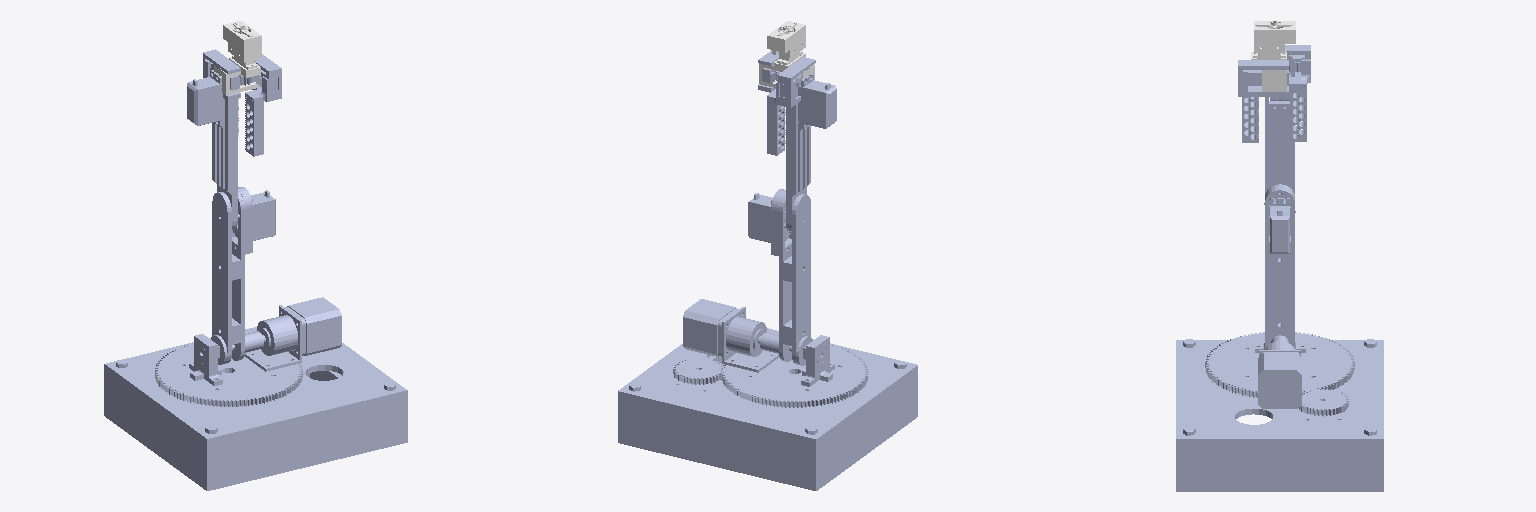
robot.urdf — me380_cad_v7:
<?xml version="1.0" encoding="utf-8"?>
<!-- This URDF was automatically created by SolidWorks to URDF Exporter! Originally created by [author] ([email redacted]) 
     Commit Version: 1.6.0-4-g7f85cfe  Build Version: 1.6.7995.38578
     For more information, please see http://wiki.ros.org/sw_urdf_exporter -->
<robot
  name="me380_cad_v7">
  <link
    name="base_link">
    <inertial>
      <origin
        xyz="0.066171199500242 -0.181511487618111 0.089463184915841"
        rpy="0 0 0" />
      <mass
        value="1.77014769465671" />
      <inertia
        ixx="0.00210043805116231"
        ixy="-1.06304625112232E-05"
        ixz="2.67176242386157E-11"
        iyy="0.00548702149822165"
        iyz="3.29919815496409E-09"
        izz="0.00696124579132741" />
    </inertial>
    <visual>
      <origin
        xyz="0 0 0"
        rpy="0 0 0" />
      <geometry>
        <mesh
          filename="package://me380_cad_v7/meshes/base_link.STL" />
      </geometry>
      <material
        name="">
        <color
          rgba="0.792156862745098 0.819607843137255 0.933333333333333 1" />
      </material>
    </visual>
    <collision>
      <origin
        xyz="0 0 0"
        rpy="0 0 0" />
      <geometry>
        <mesh
          filename="package://me380_cad_v7/meshes/base_link.STL" />
      </geometry>
    </collision>
  </link>
  <link
    name="link_1">
    <inertial>
      <origin
        xyz="-0.0120434624194553 -6.82163517617962E-08 0.03915043898334"
        rpy="0 0 0" />
      <mass
        value="0.236297558132839" />
      <inertia
        ixx="0.000327725103159314"
        ixy="-6.89388147916382E-20"
        ixz="6.58315442248317E-07"
        iyy="0.000198345267796804"
        iyz="5.25121936355093E-10"
        izz="0.00016290906768797" />
    </inertial>
    <visual>
      <origin
        xyz="0 0 0"
        rpy="0 0 0" />
      <geometry>
        <mesh
          filename="package://me380_cad_v7/meshes/link_1.STL" />
      </geometry>
      <material
        name="">
        <color
          rgba="0.792156862745098 0.819607843137255 0.933333333333333 1" />
      </material>
    </visual>
    <collision>
      <origin
        xyz="0 0 0"
        rpy="0 0 0" />
      <geometry>
        <mesh
          filename="package://me380_cad_v7/meshes/link_1.STL" />
      </geometry>
    </collision>
  </link>
  <joint
    name="joint_1"
    type="continuous">
    <origin
      xyz="0.032747 -0.18382 0.13053"
      rpy="0 1.5708 0" />
    <parent
      link="base_link" />
    <child
      link="link_1" />
    <axis
      xyz="1 0 0" />
    <limit
      lower="0"
      upper="6"
      effort="0"
      velocity="0" />
  </joint>
  <link
    name="link_2">
    <inertial>
      <origin
        xyz="0.0246809858851406 0.0938584438763335 0.00991038644973094"
        rpy="0 0 0" />
      <mass
        value="0.103250838013234" />
      <inertia
        ixx="0.000166280884898741"
        ixy="-1.55209877075966E-06"
        ixz="2.05722961385686E-12"
        iyy="1.15941369022668E-05"
        iyz="-1.18044490139455E-12"
        izz="0.000164486267779308" />
    </inertial>
    <visual>
      <origin
        xyz="0 0 0"
        rpy="0 0 0" />
      <geometry>
        <mesh
          filename="package://me380_cad_v7/meshes/link_2.STL" />
      </geometry>
      <material
        name="">
        <color
          rgba="0.792156862745098 0.819607843137255 0.933333333333333 1" />
      </material>
    </visual>
    <collision>
      <origin
        xyz="0 0 0"
        rpy="0 0 0" />
      <geometry>
        <mesh
          filename="package://me380_cad_v7/meshes/link_2.STL" />
      </geometry>
    </collision>
  </link>
  <joint
    name="joint_2"
    type="continuous">
    <origin
      xyz="-0.024975 0.0099104 -0.015"
      rpy="1.5708 -1.5708 0" />
    <parent
      link="link_1" />
    <child
      link="link_2" />
    <axis
      xyz="1 0 0" />
    <limit
      lower="-3"
      upper="3"
      effort="0"
      velocity="0" />
  </joint>
  <link
    name="link_3">
    <inertial>
      <origin
        xyz="0.0649019107014651 0.0757804025401111 0.00675619922964291"
        rpy="0 0 0" />
      <mass
        value="0.0754597178924088" />
      <inertia
        ixx="5.83225662345789E-05"
        ixy="-5.1253404346648E-05"
        ixz="6.01044971770301E-09"
        iyy="6.27166319251453E-05"
        iyz="7.8604894874664E-09"
        izz="0.000111828651960116" />
    </inertial>
    <visual>
      <origin
        xyz="0 0 0"
        rpy="0 0 0" />
      <geometry>
        <mesh
          filename="package://me380_cad_v7/meshes/link_3.STL" />
      </geometry>
      <material
        name="">
        <color
          rgba="0.792156862745098 0.819607843137255 0.933333333333333 1" />
      </material>
    </visual>
    <collision>
      <origin
        xyz="0 0 0"
        rpy="0 0 0" />
      <geometry>
        <mesh
          filename="package://me380_cad_v7/meshes/link_3.STL" />
      </geometry>
    </collision>
  </link>
  <joint
    name="joint_3"
    type="continuous">
    <origin
      xyz="0.015 0.14353 0.00315"
      rpy="0 0 0.82926" />
    <parent
      link="link_2" />
    <child
      link="link_3" />
    <axis
      xyz="0 0 1" />
  </joint>
  <link
    name="link_4">
    <inertial>
      <origin
        xyz="0.0115325048825419 -0.0317112640105645 -0.0068332124955188"
        rpy="0 0 0" />
      <mass
        value="0.0291151923315562" />
      <inertia
        ixx="1.18081150086138E-05"
        ixy="1.28959641188394E-06"
        ixz="2.78449128187749E-09"
        iyy="3.00560474264023E-06"
        iyz="2.98703157161569E-08"
        izz="1.04100622983534E-05" />
    </inertial>
    <visual>
      <origin
        xyz="0 0 0"
        rpy="0 0 0" />
      <geometry>
        <mesh
          filename="package://me380_cad_v7/meshes/link_4.STL" />
      </geometry>
      <material
        name="">
        <color
          rgba="0.792156862745098 0.819607843137255 0.933333333333333 1" />
      </material>
    </visual>
    <collision>
      <origin
        xyz="0 0 0"
        rpy="0 0 0" />
      <geometry>
        <mesh
          filename="package://me380_cad_v7/meshes/link_4.STL" />
      </geometry>
    </collision>
  </link>
  <joint
    name="joint_4"
    type="continuous">
    <origin
      xyz="0.10337 0.094677 0"
      rpy="3.1416 0 -0.56113" />
    <parent
      link="link_3" />
    <child
      link="link_4" />
    <axis
      xyz="0 0 1" />
  </joint>
  <link
    name="link_5">
    <inertial>
      <origin
        xyz="-0.00525889282955927 0.0297846312699137 -0.00709883165865399"
        rpy="0 0 0" />
      <mass
        value="0.0364758930985207" />
      <inertia
        ixx="6.60088061510714E-06"
        ixy="5.7175489328298E-08"
        ixz="-9.68482541167158E-12"
        iyy="8.25486008623195E-06"
        iyz="4.46003503418095E-12"
        izz="5.20812975539413E-06" />
    </inertial>
    <visual>
      <origin
        xyz="0 0 0"
        rpy="0 0 0" />
      <geometry>
        <mesh
          filename="package://me380_cad_v7/meshes/link_5.STL" />
      </geometry>
      <material
        name="">
        <color
          rgba="1 1 1 1" />
      </material>
    </visual>
    <collision>
      <origin
        xyz="0 0 0"
        rpy="0 0 0" />
      <geometry>
        <mesh
          filename="package://me380_cad_v7/meshes/link_5.STL" />
      </geometry>
    </collision>
  </link>
  <joint
    name="joint_5"
    type="continuous">
    <origin
      xyz="0.02125 -0.057889 -0.0089"
      rpy="0.26813 -1.5708 0" />
    <parent
      link="link_4" />
    <child
      link="link_5" />
    <axis
      xyz="0 1 0" />
  </joint>
  <link
    name="gripper">
    <inertial>
      <origin
        xyz="0.0474809921520114 -0.00824397230781637 0.0392422140337376"
        rpy="0 0 0" />
      <mass
        value="0.0514296242900853" />
      <inertia
        ixx="1.63228789987012E-05"
        ixy="-4.88781819870935E-14"
        ixz="2.11679969438411E-07"
        iyy="8.58855686810138E-06"
        iyz="1.03984903699826E-13"
        izz="1.00811724090656E-05" />
    </inertial>
    <visual>
      <origin
        xyz="0 0 0"
        rpy="0 0 0" />
      <geometry>
        <mesh
          filename="package://me380_cad_v7/meshes/gripper.STL" />
      </geometry>
      <material
        name="">
        <color
          rgba="0.792156862745098 0.819607843137255 0.933333333333333 1" />
      </material>
    </visual>
    <collision>
      <origin
        xyz="0 0 0"
        rpy="0 0 0" />
      <geometry>
        <mesh
          filename="package://me380_cad_v7/meshes/gripper.STL" />
      </geometry>
    </collision>
  </link>
  <joint
    name="gripper_joint"
    type="fixed">
    <origin
      xyz="0.035927 0.055729 0.040486"
      rpy="3.1416 1.5708 0" />
    <parent
      link="link_5" />
    <child
      link="gripper" />
    <axis
      xyz="0 0 0" />
  </joint>
</robot>

--- Facts derived from the render (not from the file) ---
The picture shows the robot from 3 angles, left to right: view 1: azimuth 30°, elevation 25°; view 2: azimuth 150°, elevation 25°; view 3: azimuth 270°, elevation 25°; orthographic projection.
Robot: me380_cad_v7 — 7 links, 6 joints (5 continuous, 1 fixed); root link base_link; default pose: all joints at 0.
Visible links, largest first — view 1: base_link, link_1, link_2, link_3, gripper, link_5; view 2: base_link, link_1, link_2, link_3, gripper, link_5; view 3: base_link, link_1, link_2, gripper, link_3, link_5.
Boxes of the visible links, x1,y1,x2,y2 form: base_link: [104, 327, 407, 490]; link_1: [155, 297, 341, 406]; link_2: [211, 187, 275, 364]; link_3: [187, 64, 239, 229]; gripper: [203, 49, 281, 156]; link_5: [214, 21, 261, 95]; base_link: [618, 328, 917, 490]; link_1: [683, 299, 867, 407]; link_2: [748, 189, 812, 365]; link_3: [784, 68, 836, 232]; gripper: [758, 50, 815, 155]; link_5: [759, 21, 814, 87]; base_link: [1176, 339, 1383, 491]; link_1: [1205, 332, 1354, 408]; link_2: [1265, 184, 1294, 347]; gripper: [1238, 45, 1310, 142]; link_3: [1264, 55, 1295, 218]; link_5: [1251, 20, 1295, 91].
Bounding box of the posed robot: 0.2286 × 0.2032 × 0.4455 m (x, y, z).
6 mesh visuals loaded from 7 distinct referenced files (6 binary STL); not drawn: 1 (reference not matched to a file when rendering).